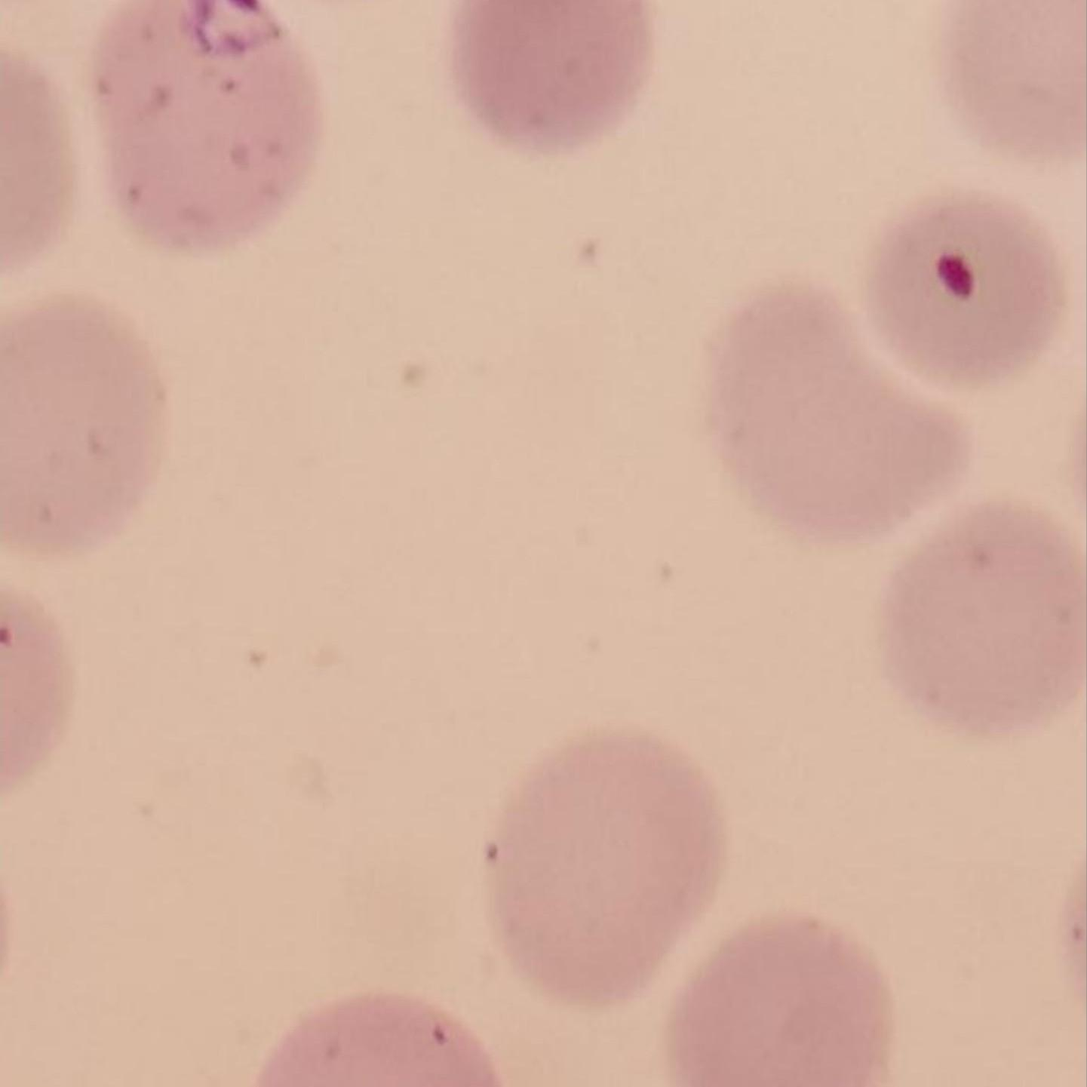Infected: (91, 0, 325, 250)
Uninfected: (488, 728, 730, 1013), (705, 279, 971, 535), (881, 511, 1087, 734), (0, 291, 171, 549), (864, 191, 1063, 392), (669, 911, 896, 1087), (447, 0, 648, 155)
